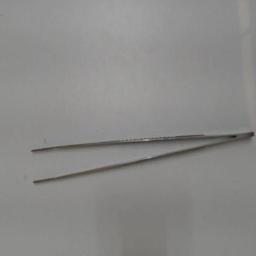DeBakey Dissector: (24, 116, 256, 192)
